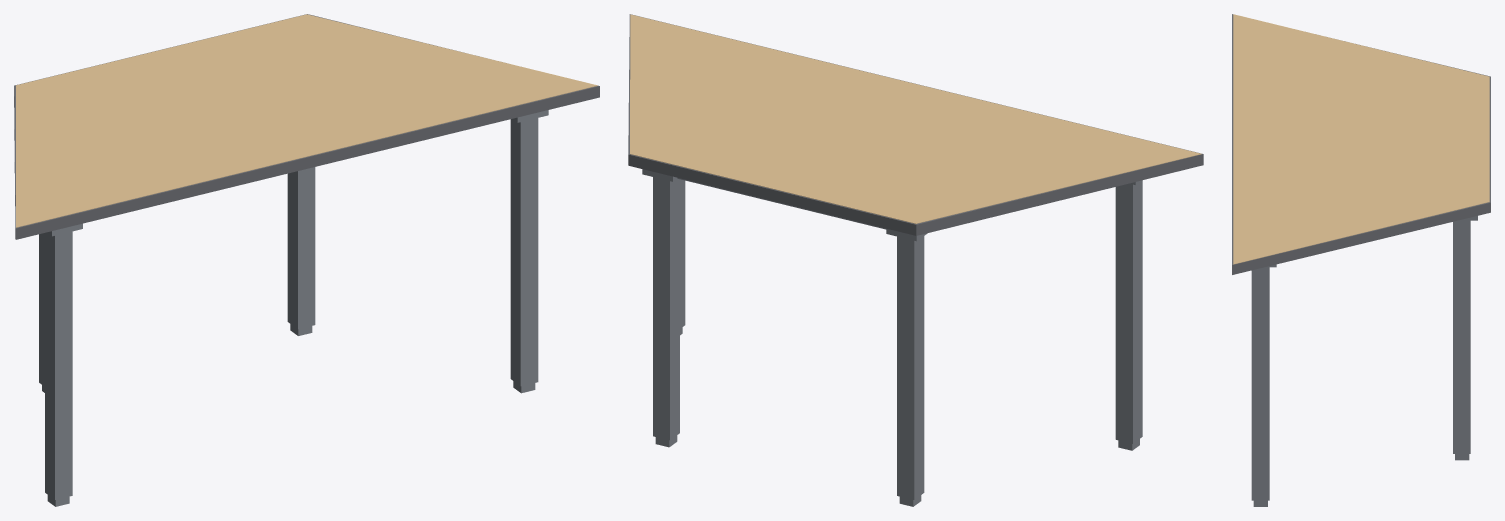
Rendered from 086_trapezoid_collaborative_table.glb.
3 renders of one model, left to right at view 1: azimuth 30°, elevation 25°; view 2: azimuth 150°, elevation 25°; view 3: azimuth 270°, elevation 25°, orthographic. The views are drawn at different scales.
Visible parts, largest first — view 1: 001_trapezoid_top, 000_t_mould_edge, 007_leg, 003_leg, 015_leg, 011_leg; view 2: 001_trapezoid_top, 000_t_mould_edge, 011_leg, 003_leg, 015_leg, 007_leg; view 3: 001_trapezoid_top, 007_leg, 015_leg, 000_t_mould_edge.
Boxes of the visible parts, left/top/right/bottom form: 001_trapezoid_top: left=16, top=14, right=597, bottom=227; 000_t_mould_edge: left=14, top=14, right=599, bottom=239; 007_leg: left=510, top=118, right=538, bottom=386; 003_leg: left=45, top=231, right=72, bottom=499; 015_leg: left=287, top=167, right=315, bottom=329; 011_leg: left=39, top=233, right=44, bottom=386; 001_trapezoid_top: left=630, top=14, right=1201, bottom=223; 000_t_mould_edge: left=628, top=14, right=1203, bottom=235; 011_leg: left=897, top=236, right=924, bottom=499; 003_leg: left=1115, top=180, right=1142, bottom=443; 015_leg: left=653, top=177, right=679, bottom=440; 007_leg: left=680, top=179, right=685, bottom=328; 001_trapezoid_top: left=1233, top=14, right=1489, bottom=264; 007_leg: left=1251, top=267, right=1269, bottom=500; 015_leg: left=1453, top=220, right=1470, bottom=453; 000_t_mould_edge: left=1232, top=14, right=1490, bottom=274.
Size of the model in its own units: 1.51 by 0.74 by 0.656.
